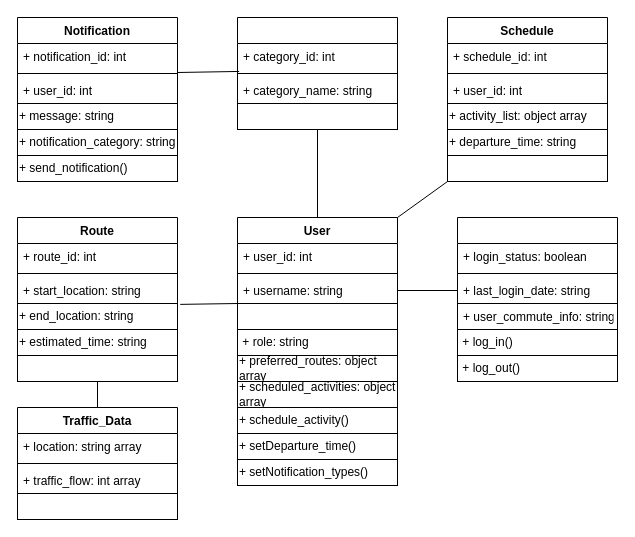
This 635x537 diagram has some shape labels left out. The shapes that lost their labels are listed below. From the top down, each one's box as (x1, y1, x2, y2) in pixels, then its label:
(236, 16, 398, 130): Notification_Category
(236, 102, 398, 130): + add_category()
(446, 154, 608, 182): + add_activity()
(236, 302, 398, 330): + password: string
(456, 216, 618, 382): Registration
(16, 354, 178, 382): + suggest_route()
(16, 492, 178, 520): + predict_traffic()
